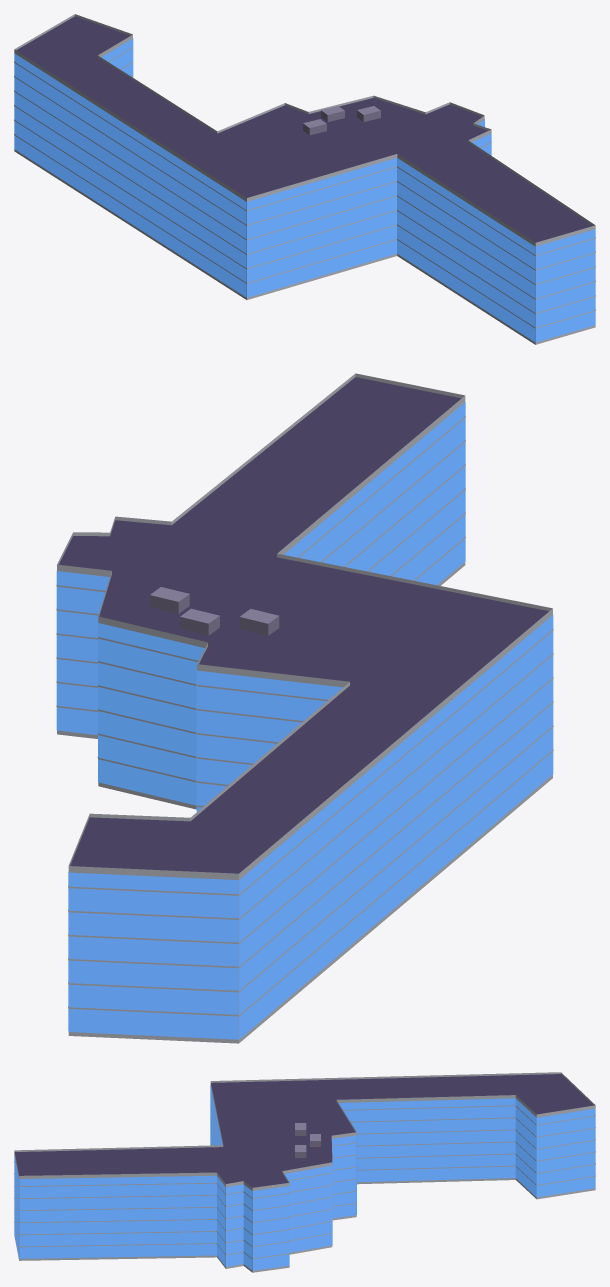
Rendered from b-117-essex-hall.glb.
3 views of the same model, one above another, from view 1: azimuth 30°, elevation 25°; view 2: azimuth 150°, elevation 25°; view 3: azimuth 270°, elevation 25° (orthographic). The views are drawn at different scales.
Visible parts, largest first — view 1: campus/b-117-essex-hall-0; view 2: campus/b-117-essex-hall-0; view 3: campus/b-117-essex-hall-0.
Part boxes in pixels (bbox=[...]): campus/b-117-essex-hall-0: bbox=[14, 14, 595, 344]; campus/b-117-essex-hall-0: bbox=[56, 373, 553, 1043]; campus/b-117-essex-hall-0: bbox=[14, 1072, 595, 1272].
Size of the model in its own units: 74.2 by 26.6 by 157.
